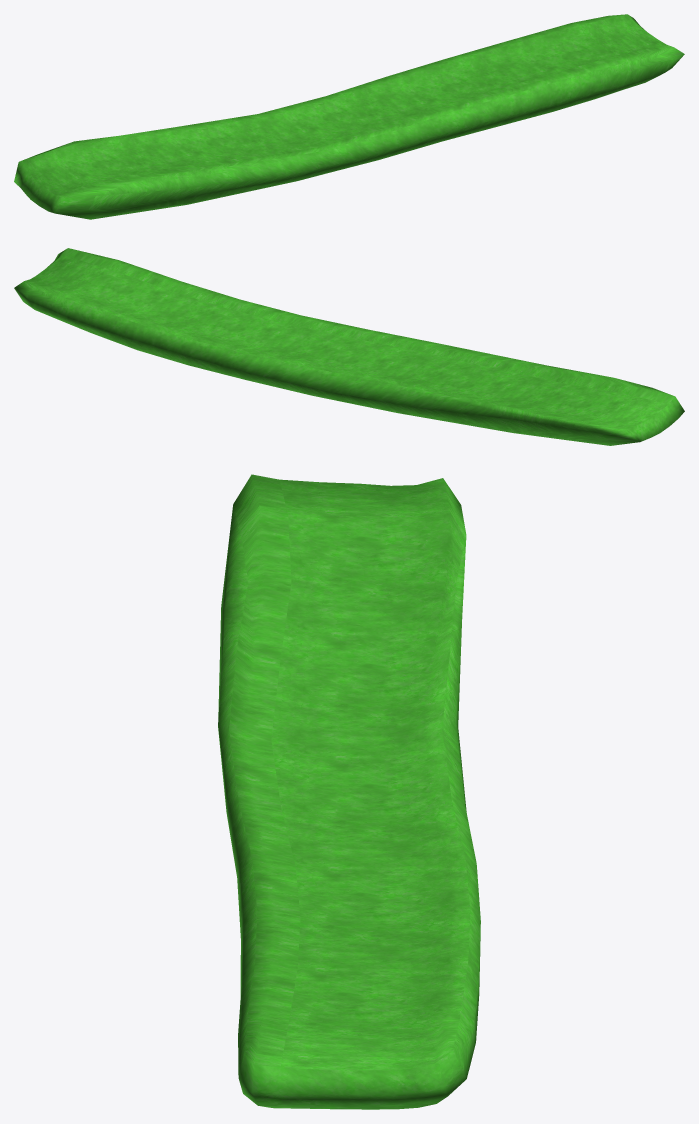
Rendered from LilyBridge.fbx.
The picture shows the model from 3 angles, top to bottom: view 1: azimuth 30°, elevation 25°; view 2: azimuth 150°, elevation 25°; view 3: azimuth 270°, elevation 25°; orthographic projection. The views are drawn at different scales.
Parts seen in each view (by area): view 1: LilyBridge; view 2: LilyBridge; view 3: LilyBridge.
Part boxes in pixels (x1,y1,x2,y2): LilyBridge: [14, 14, 684, 219]; LilyBridge: [14, 248, 684, 445]; LilyBridge: [218, 474, 480, 1109].
Bounding box in the file's own units: 21.5 × 1.7 × 3.91.
